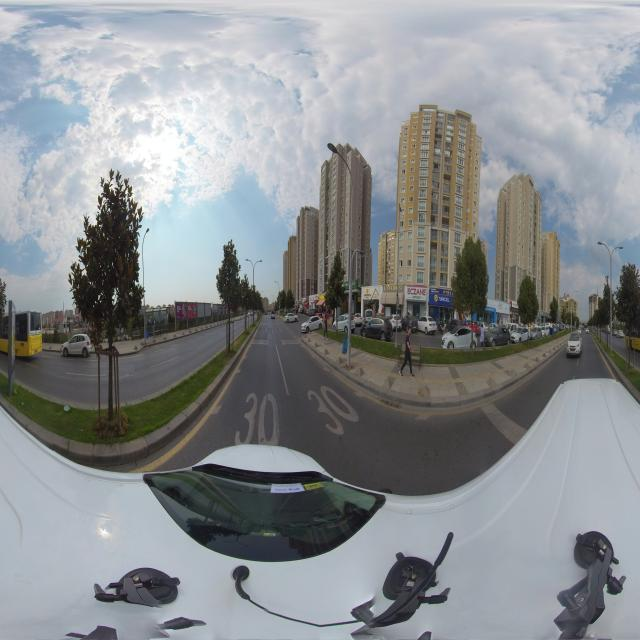SignStore: (433, 294, 452, 305), (363, 287, 379, 299), (407, 287, 426, 296), (384, 285, 403, 291), (512, 301, 518, 308), (342, 282, 349, 288), (309, 296, 314, 301), (303, 297, 306, 302), (315, 295, 318, 300), (306, 297, 309, 301)
